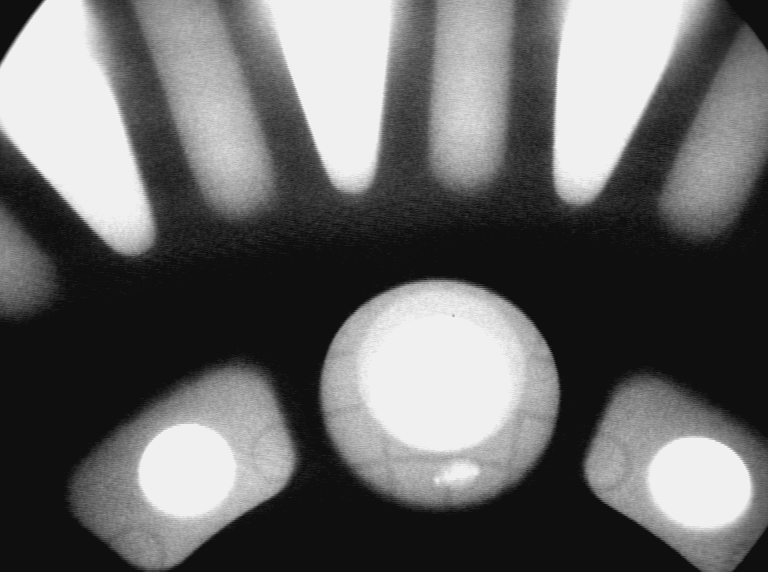defect: (432, 458, 484, 494)
